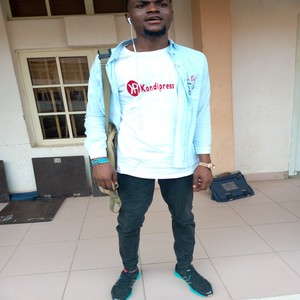Fulokoja_male_student: (105, 2, 208, 285)
